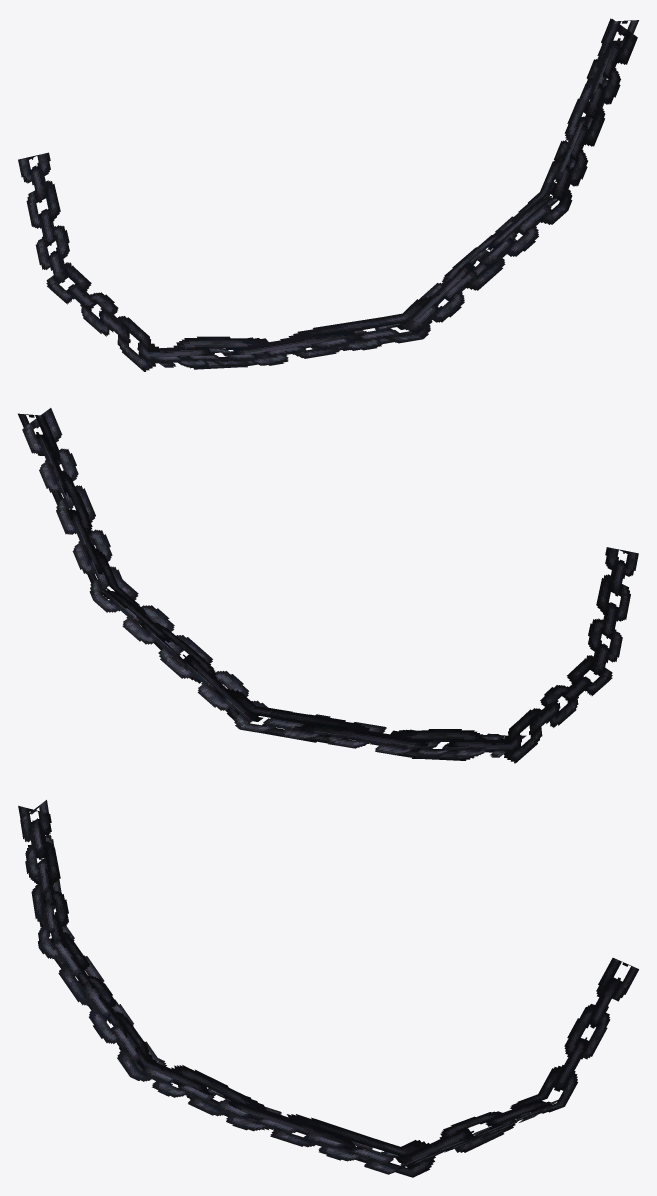
The model's file is 10504_IronRail18.FBX.
3 views of the same model, one above another, from view 1: azimuth 30°, elevation 25°; view 2: azimuth 150°, elevation 25°; view 3: azimuth 330°, elevation 25° (orthographic).
Parts seen in each view (by area): view 1: 10504_IronRail18; view 2: 10504_IronRail18; view 3: 10504_IronRail18.
Boxes of the visible parts, x1,y1,x2,y2 form: 10504_IronRail18: [18, 18, 638, 371]; 10504_IronRail18: [18, 408, 638, 763]; 10504_IronRail18: [18, 800, 638, 1177].
Bounding box in the file's own units: 572 × 243 × 59.82.
